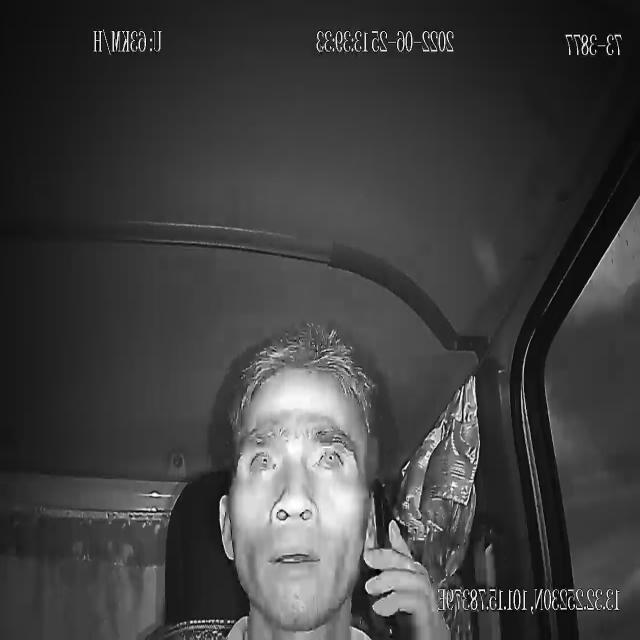phone: (373, 474, 414, 640)
